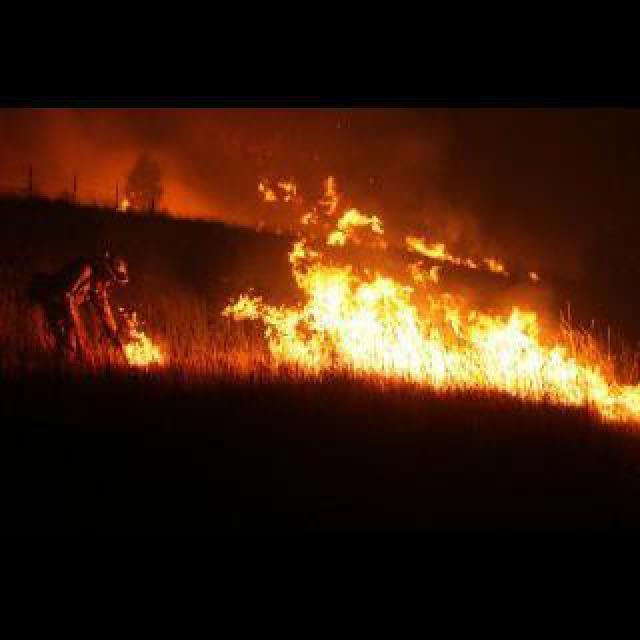Fire: (238, 176, 640, 414), (108, 302, 160, 368)
